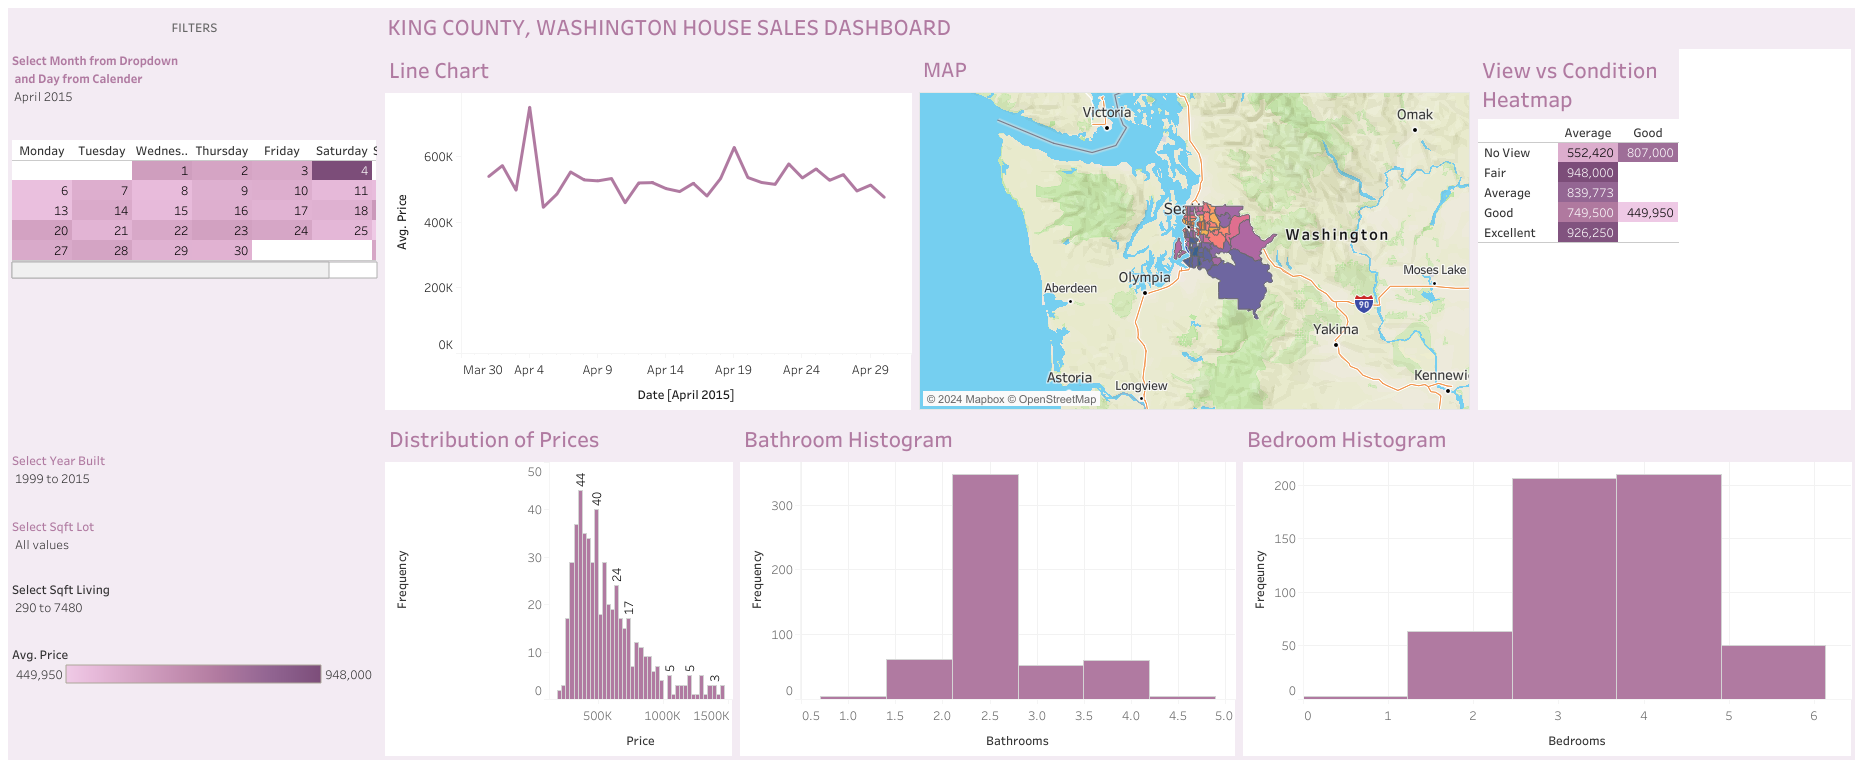

The dashboard page shown, as its layout file describes it:
{"tool":"tableau","page":{"name":"House Sales Dashboard","canvas":[1000,1000],"units":"permille","ordinal":0},"visuals":[{"type":"text","box":[4.7,10.4,200,49.4]},{"type":"text","box":[204.8,10.4,790.5,48.2]},{"type":"worksheet","title":"LineChart","mark":"Automatic","rows":["price"],"cols":["date"],"box":[204.8,58.6,274.8,480.4]},{"type":"worksheet","title":"Map","mark":"Automatic","box":[479.5,58.6,290.2,480.4]},{"type":"worksheet","title":"Heatmap","mark":"Square","rows":["view"],"cols":["condition"],"box":[769.7,58.6,225.6,480.4]},{"type":"filter","title":"Calender","param":"[federated.1aoyoob0tsv0gw109nc7r0nguxsl].[my:date:ok]","box":[4.7,59.8,200,117.2]},{"type":"worksheet","title":"Calender","mark":"Square","rows":["date"],"cols":["date"],"box":[4.7,177,200,403.7]},{"type":"worksheet","title":"Histogram House Price","mark":"Automatic","rows":["price"],"cols":["Price (bin)"],"box":[204.8,539,190.2,450.6]},{"type":"worksheet","title":"Bathroom Histogram","mark":"Automatic","rows":["bathrooms"],"cols":["Bathrooms (bin)"],"box":[395,539,270.1,450.6]},{"type":"worksheet","title":"Bedroom Histogram","mark":"Automatic","rows":["bedrooms"],"cols":["Bedrooms (bin)"],"box":[665,539,330.2,450.6]},{"type":"filter","title":"Calender","param":"[federated.1aoyoob0tsv0gw109nc7r0nguxsl].[none:yr_built:qk]","box":[4.7,580.7,200,85.9]},{"type":"filter","title":"Calender","param":"[federated.1aoyoob0tsv0gw109nc7r0nguxsl].[none:sqft_lot:qk]","box":[4.7,666.6,200,82]},{"type":"filter","title":"Calender","param":"[federated.1aoyoob0tsv0gw109nc7r0nguxsl].[none:sqft_living:qk]","box":[4.7,748.6,200,80.7]},{"type":"legend","title":"Heatmap","param":"[federated.1aoyoob0tsv0gw109nc7r0nguxsl].[avg:price:qk]","box":[4.7,829.4,200,160.2]}]}

Visuals, with their boxes on the dashboard's canvas, which has no fixed pixel size, in thousandths of its width and height (x1, y1, x2, y2). These are canvas units, not pixel positions in the 1863x768 screenshot, which may show the page scaled, cropped or inside an application window:
text: left=5, top=10, right=205, bottom=60
text: left=205, top=10, right=995, bottom=59
"LineChart" worksheet: left=205, top=59, right=480, bottom=539
"Map" worksheet: left=480, top=59, right=770, bottom=539
"Heatmap" worksheet (Square marks): left=770, top=59, right=995, bottom=539
"Calender" filter: left=5, top=60, right=205, bottom=177
"Calender" worksheet (Square marks): left=5, top=177, right=205, bottom=581
"Histogram House Price" worksheet: left=205, top=539, right=395, bottom=990
"Bathroom Histogram" worksheet: left=395, top=539, right=665, bottom=990
"Bedroom Histogram" worksheet: left=665, top=539, right=995, bottom=990
"Calender" filter: left=5, top=581, right=205, bottom=667
"Calender" filter: left=5, top=667, right=205, bottom=749
"Calender" filter: left=5, top=749, right=205, bottom=829
"Heatmap" legend: left=5, top=829, right=205, bottom=990
